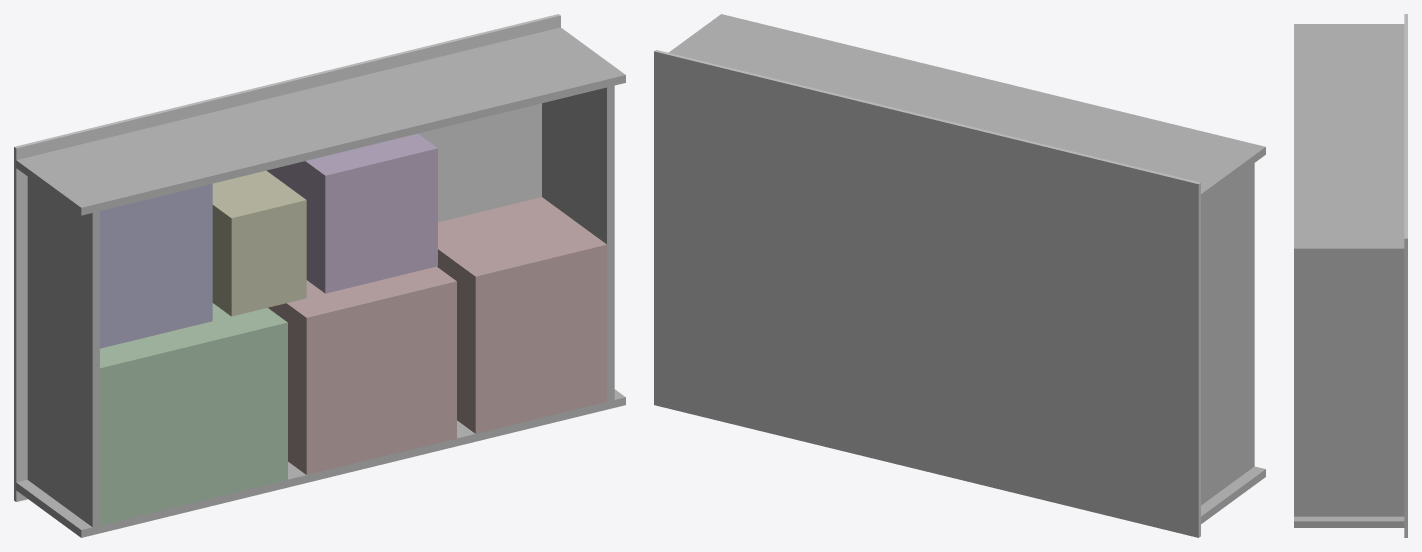
Rendered from house_20251101_105100.glb.
3 views of the same model, side by side, from view 1: azimuth 30°, elevation 25°; view 2: azimuth 150°, elevation 25°; view 3: azimuth 270°, elevation 25° (orthographic). The views are drawn at different scales.
Visible parts, largest first — view 1: Wall_South, Living Room, Bedroom 2, Bedroom 1, Floor, Wall_East, Dining, Kitchen, Bathroom, Wall_West, Wall_North; view 2: Floor, Wall_South, Wall_East, Wall_North; view 3: Wall_West, Wall_South, Floor, Wall_North.
Part boxes in pixels (box(x1,y1,x2,y2)): Wall_South: box(16, 27, 625, 215); Living Room: box(100, 303, 287, 525); Bedroom 2: box(437, 197, 606, 433); Bedroom 1: box(268, 266, 456, 474); Floor: box(14, 14, 560, 501); Wall_East: box(27, 177, 99, 527); Dining: box(266, 133, 437, 293); Kitchen: box(100, 183, 212, 348); Bathroom: box(212, 170, 306, 316); Wall_West: box(542, 85, 614, 401); Wall_North: box(16, 389, 625, 537); Floor: box(654, 50, 1200, 537); Wall_South: box(668, 14, 1265, 201); Wall_East: box(1201, 163, 1254, 505); Wall_North: box(1201, 466, 1265, 523); Wall_West: box(1294, 255, 1404, 516); Wall_South: box(1294, 24, 1404, 255); Floor: box(1404, 14, 1407, 537); Wall_North: box(1294, 516, 1404, 527).
Size of the model in its own units: 14.5 by 9 by 3.1.
